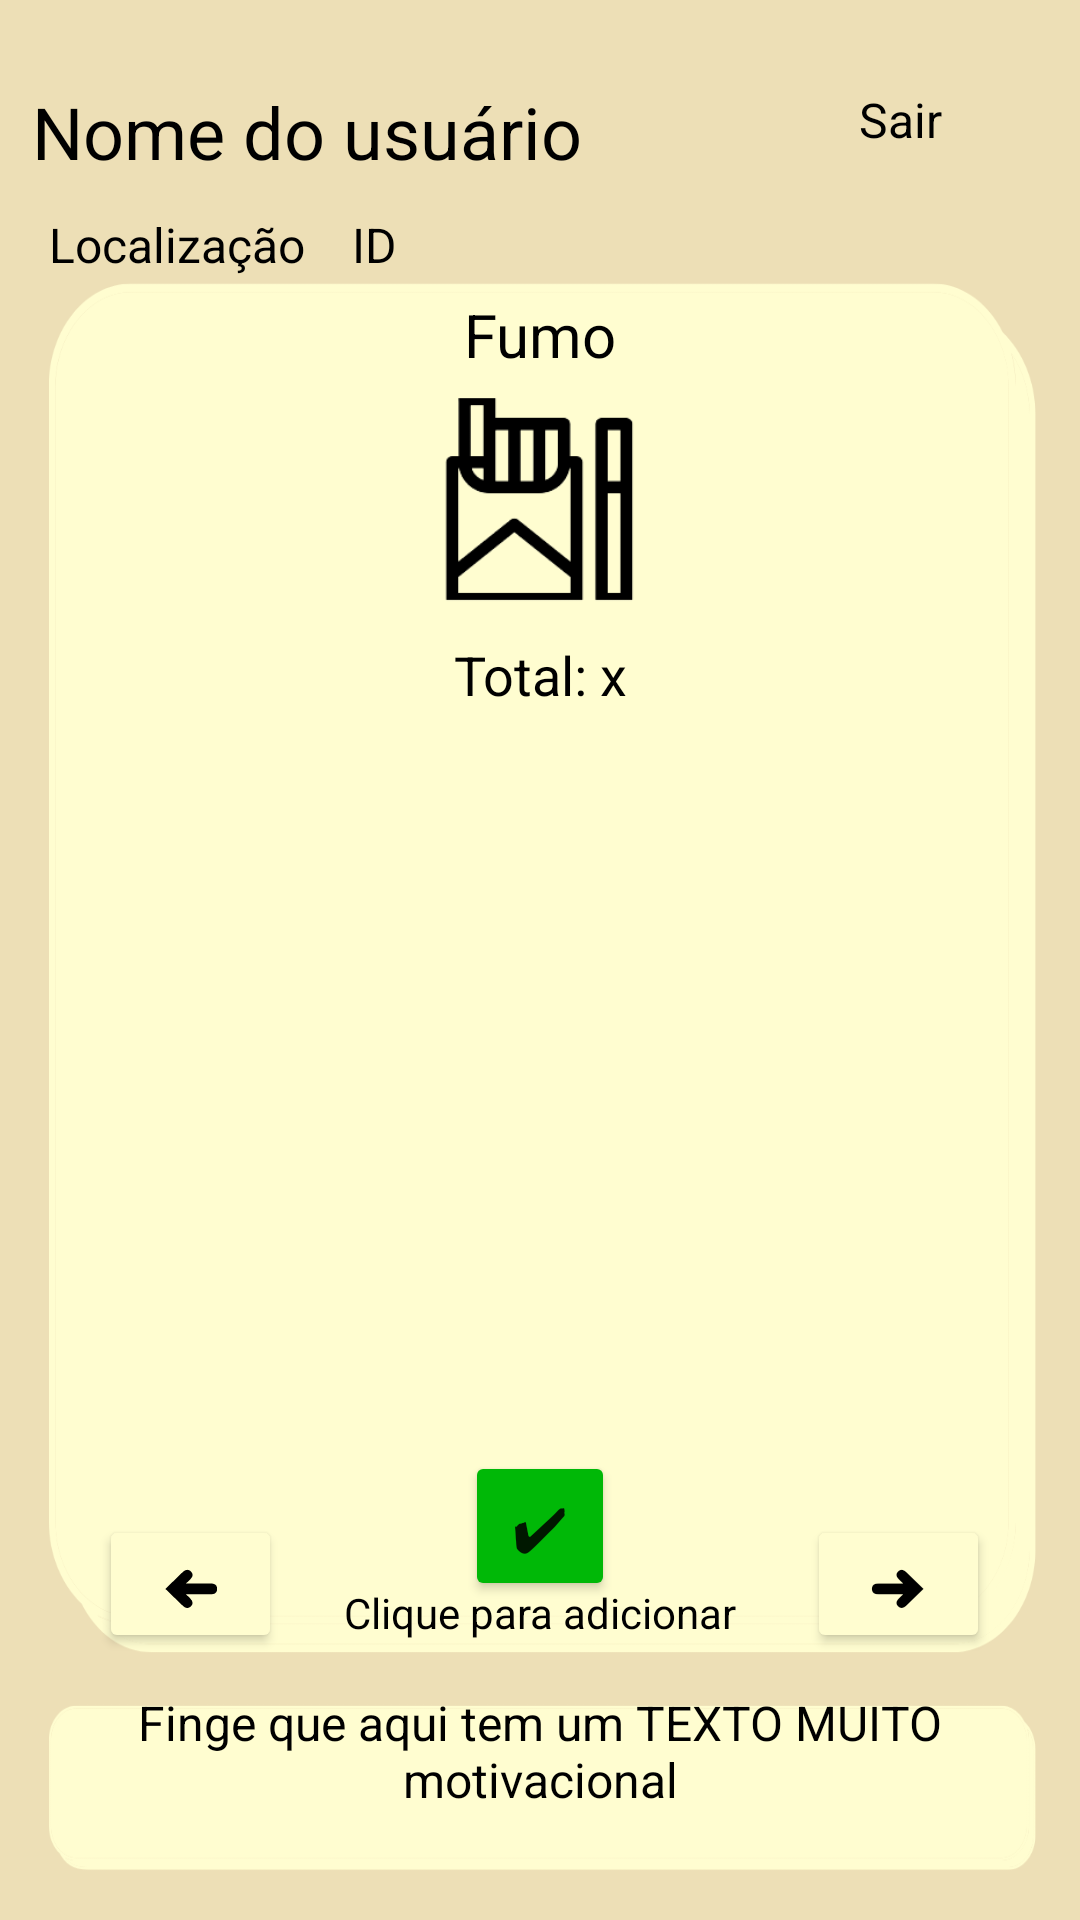

Where to tap for icons on this 1080px x 1920px app screen, as (x=x, y=y):
cigarrocortado: (x=539, y=499)
